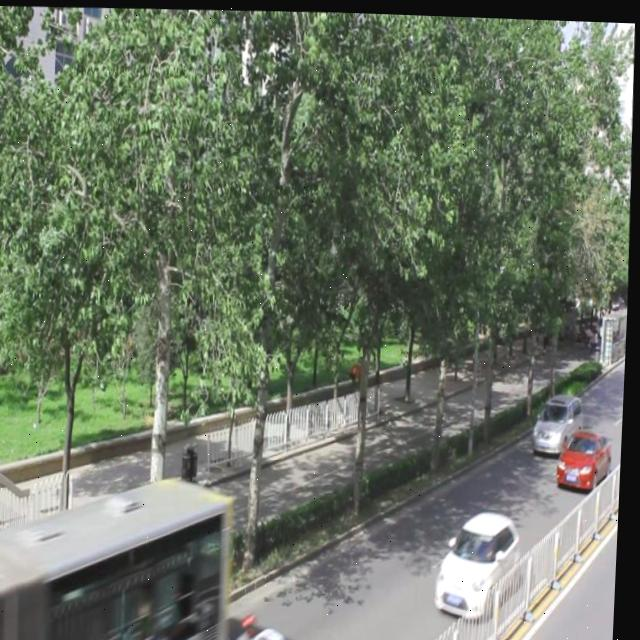car: (435, 505, 526, 615), (556, 424, 614, 487), (531, 386, 586, 451)
van: (0, 469, 238, 640)
